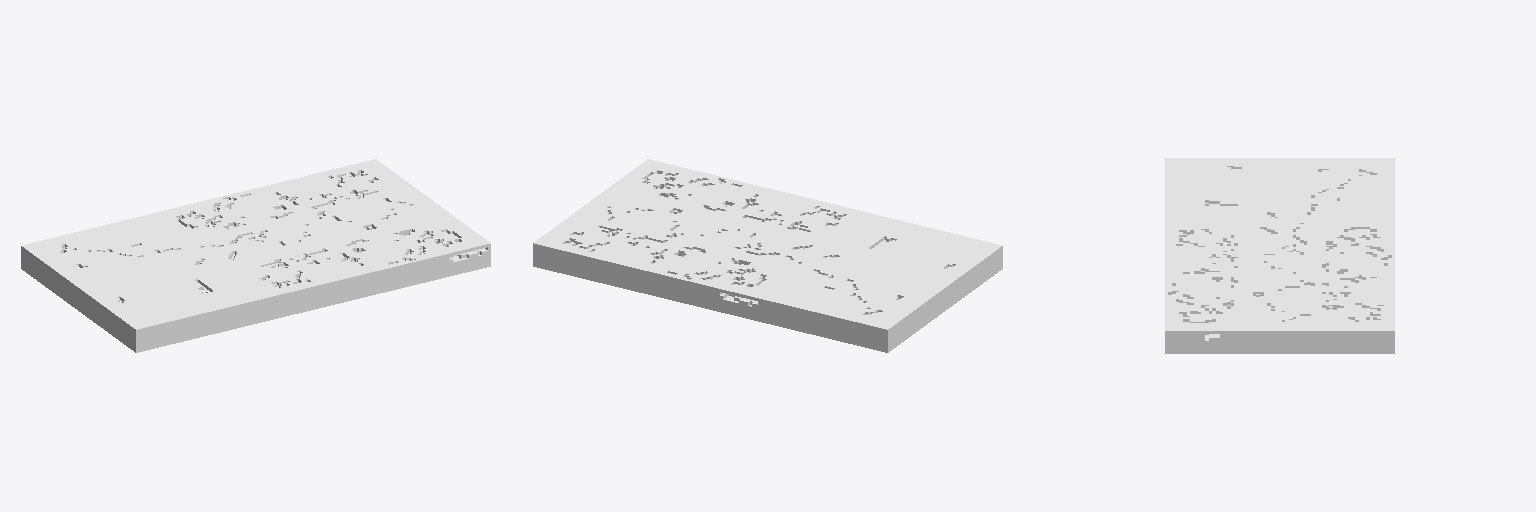
The model's file is big_floors_bossfight.obj.
3 renders of one model, left to right at view 1: azimuth 30°, elevation 25°; view 2: azimuth 150°, elevation 25°; view 3: azimuth 270°, elevation 25°, orthographic.
Bounding box in the file's own units: 112 × 7 × 63.